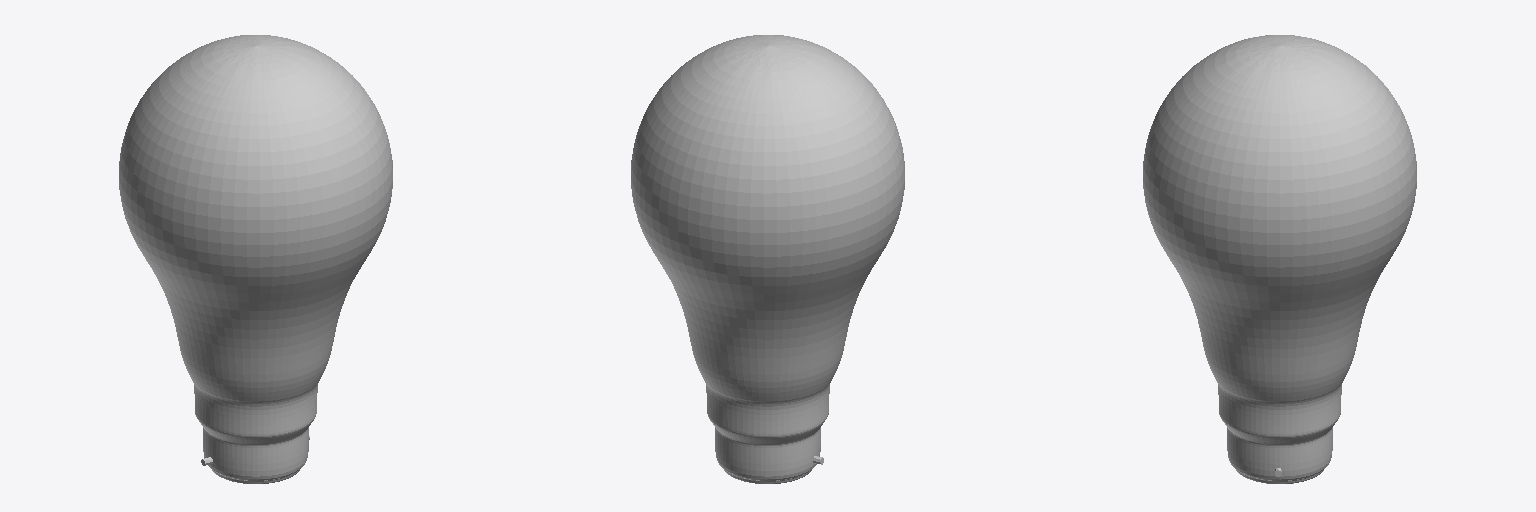
File: light_bulb_solid_base.obj
3 renders of one model, left to right at view 1: azimuth 30°, elevation 25°; view 2: azimuth 150°, elevation 25°; view 3: azimuth 270°, elevation 25°, orthographic.
Visible parts, largest first — view 1: Sphere_Sphere.001, Base1_Sphere.002; view 2: Sphere_Sphere.001, Base1_Sphere.002; view 3: Sphere_Sphere.001, Base1_Sphere.002.
Boxes of the visible parts, <box> form: Sphere_Sphere.001: <box>119,35,392,400</box>; Base1_Sphere.002: <box>193,382,318,483</box>; Sphere_Sphere.001: <box>631,35,904,400</box>; Base1_Sphere.002: <box>705,382,830,483</box>; Sphere_Sphere.001: <box>1143,35,1416,400</box>; Base1_Sphere.002: <box>1217,382,1342,483</box>.
Size of the model in its own units: 2.4 by 4.04 by 2.4.